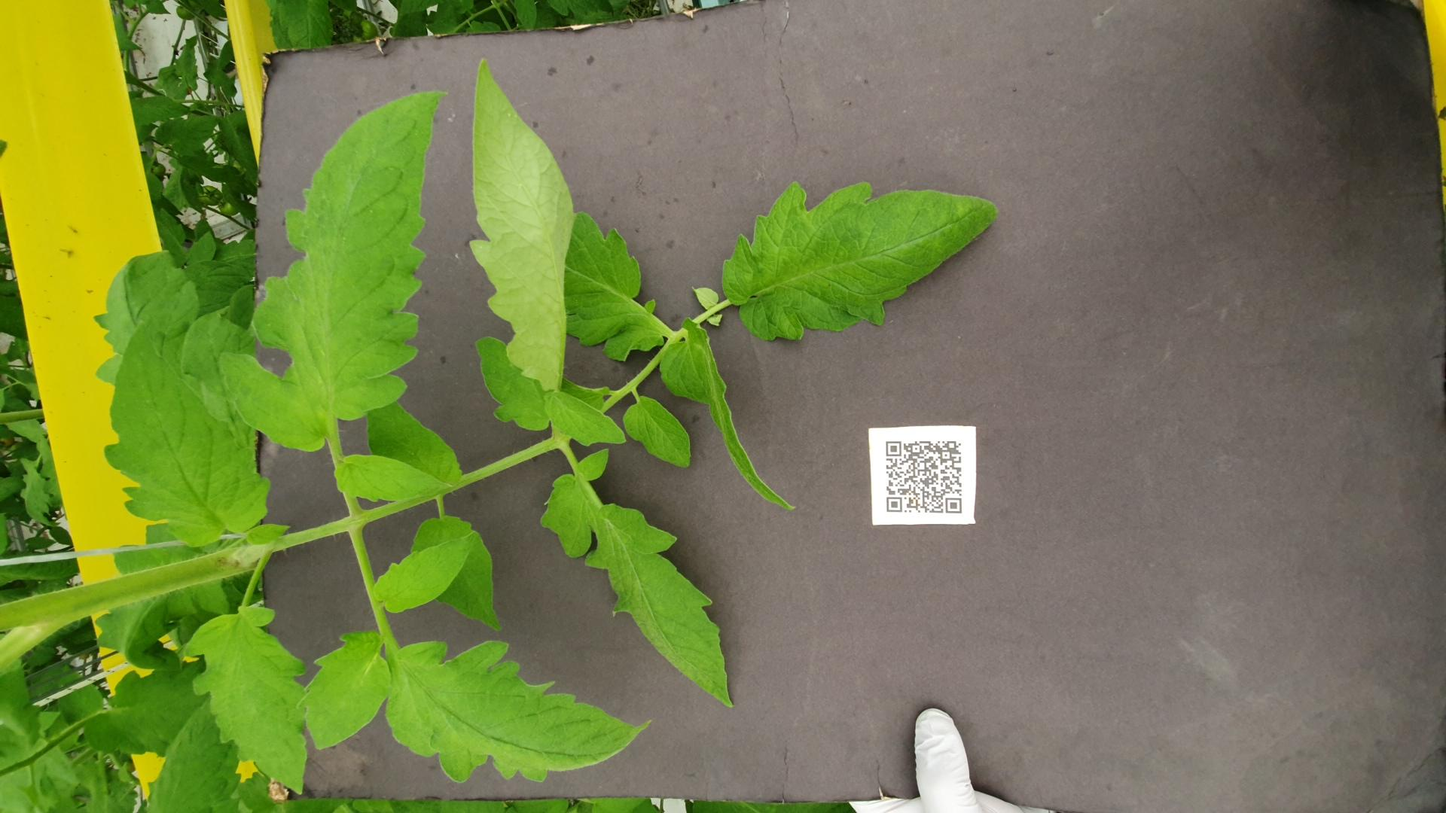Healthy: (645, 122, 1284, 252), (181, 303, 647, 412), (839, 406, 1126, 563), (471, 56, 880, 153), (52, 217, 306, 365), (742, 263, 1347, 324), (538, 370, 884, 449), (16, 102, 367, 174), (801, 317, 1075, 377), (109, 166, 324, 219), (359, 211, 502, 269), (675, 267, 849, 311), (556, 187, 636, 257), (614, 350, 747, 391), (648, 306, 753, 353)
